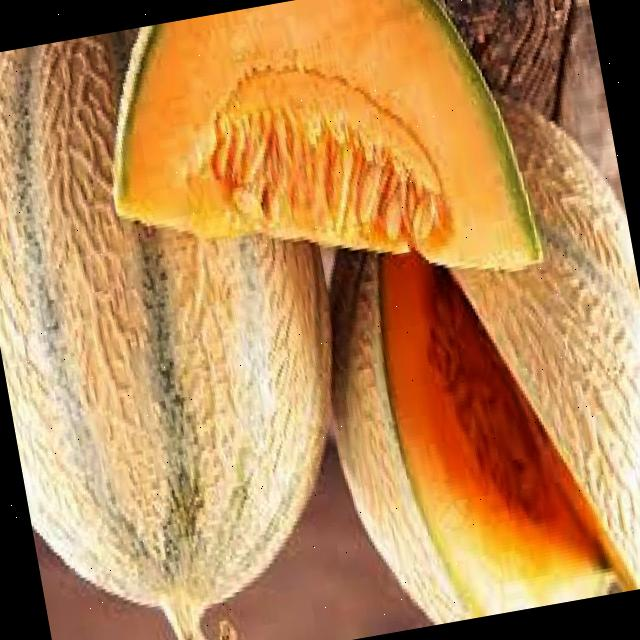Hami Melon: (0, 3, 374, 626), (282, 73, 640, 635), (85, 0, 546, 337)
